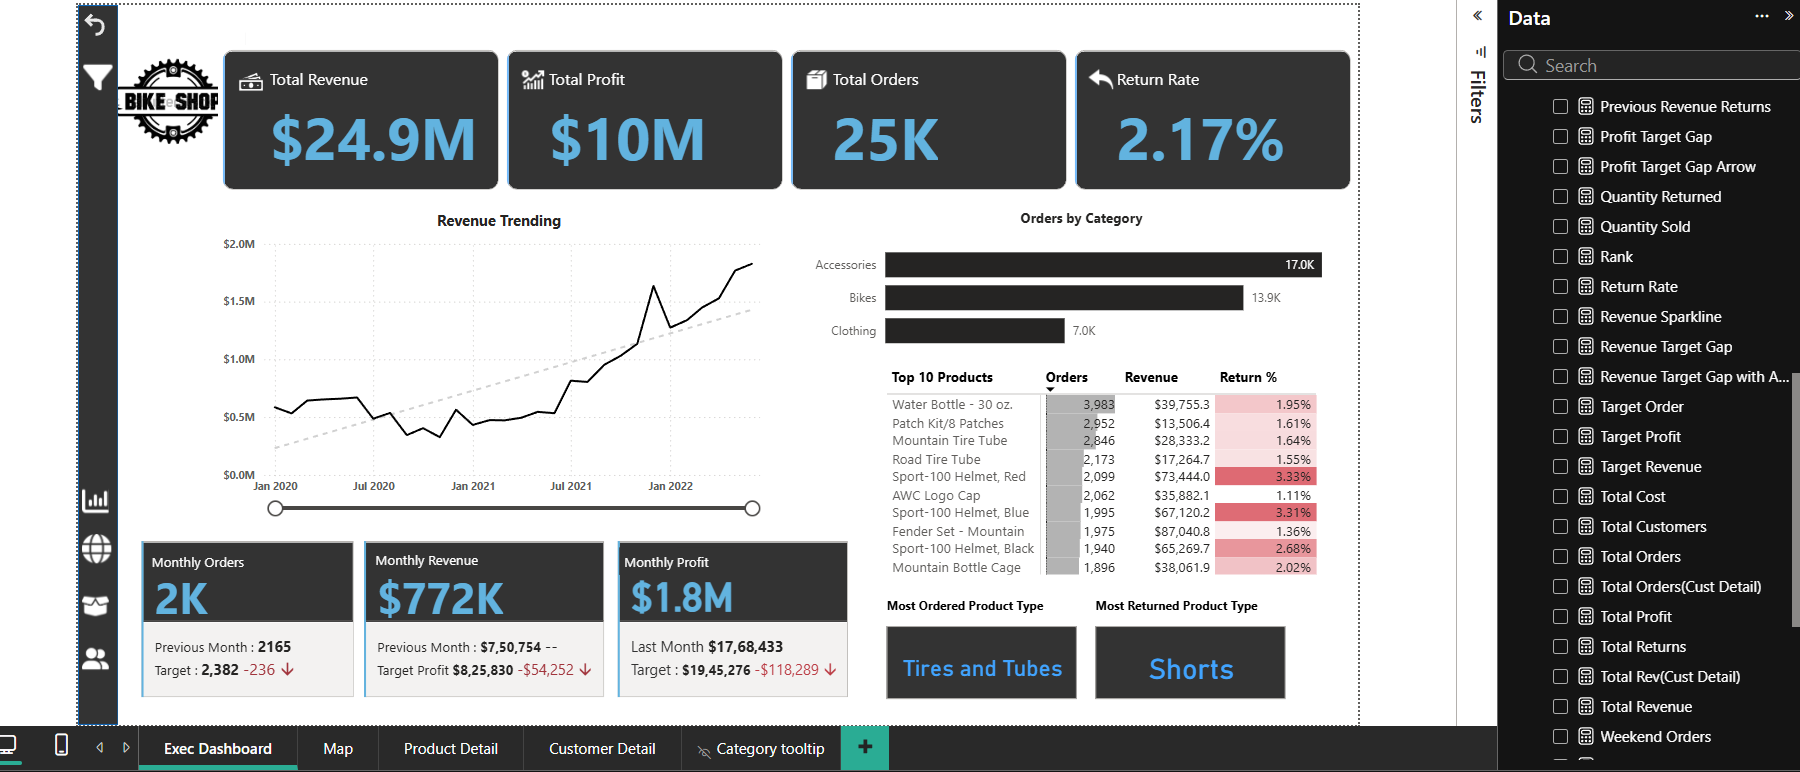

The dashboard page shown, as its layout file describes it:
{"tool":"powerbi","page":{"name":"Exec Dashboard","canvas":[1280,720],"ordinal":0},"visuals":[{"type":"image","box":[17.4,16.2,155.5,161.7],"z":0},{"type":"cardVisual","fields":{"Data":["Measure Table.Total Revenue","Measure Table.Total Profit","Measure Table.Total Orders","Measure Table.Return Rate"]},"box":[140,40,1140,150],"z":1000},{"type":"shape","box":[0,0,40.4,719.9],"z":2000},{"type":"lineChart","title":" Revenue Trending","fields":{"Category":["Calendar Lookup.Year","Calendar Lookup.Start of Quarter","Calendar Lookup.Start of Month"],"Y":["Measure Table.Total Revenue"]},"box":[139.4,204.5,562.1,309.1],"z":3000},{"type":"cardVisual","fields":{"Data":["Measure Table.Total Revenue"]},"box":[534.8,531.8,240.9,166.7],"z":4000},{"type":"cardVisual","fields":{"Data":["Measure Table.Total Orders"]},"box":[59.1,531.8,222.7,166.7],"z":5000},{"type":"textbox","box":[292.4,542.4,128.8,30.3],"z":6000},{"type":"textbox","box":[68.2,542.4,106.1,27.3],"z":7000},{"type":"cardVisual","fields":{"Data":["Measure Table.Total Profit"]},"box":[281.8,531.8,250,166.7],"z":8000},{"type":"textbox","box":[540.9,542.4,115.2,27.3],"z":9000},{"type":"clusteredBarChart","title":"Orders by Category","fields":{"Category":["Product Categories Lookup.CategoryName"],"Y":["Measure Table.Total Orders"]},"box":[727.7,204,552.3,154.3],"z":10000},{"type":"textbox","box":[292.4,540.9,128.8,28.8],"z":11000},{"type":"pivotTable","fields":{"Columns":["Product Lookup.ProductName"],"Rows":["Product Lookup.ProductName"],"Values":["Measure Table.Total Orders","Measure Table.Total Revenue","Measure Table.Return Rate"]},"box":[803.6,357.8,441.5,240.9],"z":12000},{"type":"cardVisual","fields":{"Data":["Min(Product Subcategories Lookup.SubcategoryName)"]},"box":[803.6,615.8,200.3,83.3],"z":13000},{"type":"textbox","box":[803.6,585.9,170.4,29.9],"z":14000},{"type":"cardVisual","fields":{"Data":["Min(Product Subcategories Lookup.SubcategoryName)"]},"box":[1012.6,615.8,200.3,83.3],"z":15000},{"type":"textbox","box":[1012.6,585.9,182.9,29.9],"z":16000},{"type":"actionButton","box":[0,525,41.1,37.3],"z":17000},{"type":"actionButton","box":[0,635.7,41.1,34.8],"z":18000},{"type":"actionButton","box":[0,478.9,41.1,34.8],"z":19000},{"type":"actionButton","box":[0,583.4,41.1,34.8],"z":20000},{"type":"actionButton","box":[1.2,0,31.1,39.8],"z":21000},{"type":"actionButton","box":[1.2,53.5,38.6,37.3],"z":22000}]}

Visuals, with their boxes on the page's 1280x720 design canvas (x1, y1, x2, y2). These are canvas units, not pixel positions in the 1800x772 screenshot, which may show the page scaled, cropped or inside an application window:
image: x1=17, y1=16, x2=173, y2=178
cardVisual - Measure Table.Total Revenue x Measure Table.Total Profit: x1=140, y1=40, x2=1280, y2=190
shape: x1=0, y1=0, x2=40, y2=720
" Revenue Trending" lineChart: x1=139, y1=204, x2=702, y2=514
cardVisual - Measure Table.Total Revenue: x1=535, y1=532, x2=776, y2=698
cardVisual - Measure Table.Total Orders: x1=59, y1=532, x2=282, y2=698
textbox: x1=292, y1=542, x2=421, y2=573
textbox: x1=68, y1=542, x2=174, y2=570
cardVisual - Measure Table.Total Profit: x1=282, y1=532, x2=532, y2=698
textbox: x1=541, y1=542, x2=656, y2=570
"Orders by Category" clusteredBarChart: x1=728, y1=204, x2=1280, y2=358
textbox: x1=292, y1=541, x2=421, y2=570
pivotTable - Product Lookup.ProductName x Product Lookup.ProductName: x1=804, y1=358, x2=1245, y2=599
cardVisual - Min(Product Subcategories Lookup.SubcategoryName): x1=804, y1=616, x2=1004, y2=699
textbox: x1=804, y1=586, x2=974, y2=616
cardVisual - Min(Product Subcategories Lookup.SubcategoryName): x1=1013, y1=616, x2=1213, y2=699
textbox: x1=1013, y1=586, x2=1196, y2=616
actionButton: x1=0, y1=525, x2=41, y2=562
actionButton: x1=0, y1=636, x2=41, y2=670
actionButton: x1=0, y1=479, x2=41, y2=514
actionButton: x1=0, y1=583, x2=41, y2=618
actionButton: x1=1, y1=0, x2=32, y2=40
actionButton: x1=1, y1=54, x2=40, y2=91
